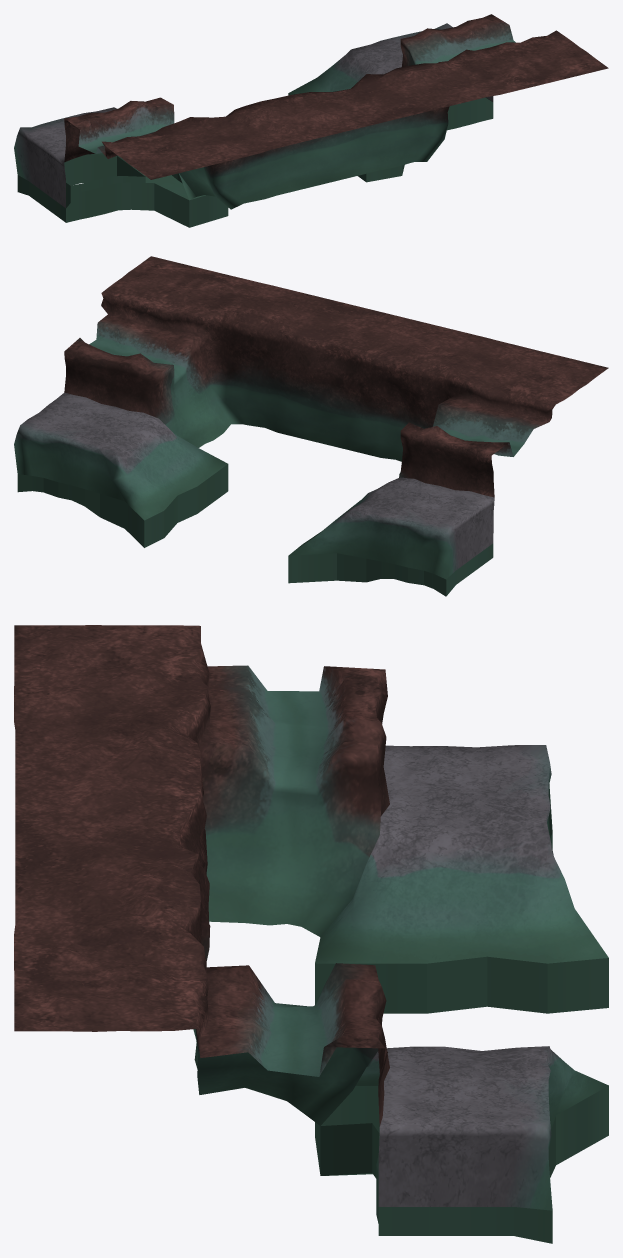
Rendered from Waterfall_Ground.fbx.
3 views of the same model, one above another, from view 1: azimuth 30°, elevation 25°; view 2: azimuth 150°, elevation 25°; view 3: azimuth 270°, elevation 25° (orthographic). The views are drawn at different scales.
Parts seen in each view (by area): view 1: polySurface1; view 2: polySurface1; view 3: polySurface1.
Boxes of the visible parts, x1=… form: polySurface1: x1=14, y1=14, x2=608, y2=227; polySurface1: x1=14, y1=256, x2=608, y2=596; polySurface1: x1=14, y1=625, x2=608, y2=1243.
Bounding box in the file's own units: 123 × 37.73 × 75.97.
Materials: 1 (1 with a texture image).
